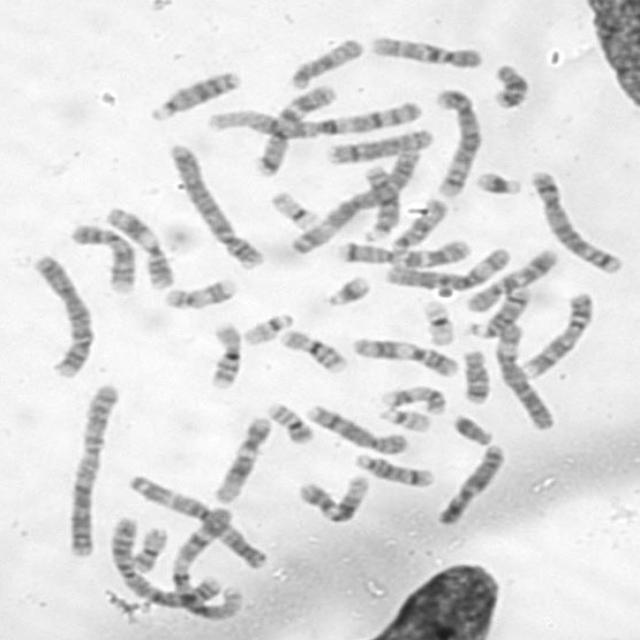A1: (202, 96, 424, 140), (165, 502, 242, 620)
A2: (104, 512, 234, 610), (62, 379, 122, 559)
A3: (287, 139, 424, 255), (126, 474, 271, 570)
B4: (164, 141, 265, 271), (26, 251, 97, 380)
B5: (528, 167, 625, 275), (430, 84, 484, 198)
C10: (462, 245, 560, 313), (366, 33, 486, 70)
C11: (101, 204, 178, 290), (347, 333, 460, 378)
C12: (210, 411, 273, 505), (294, 470, 370, 524)
C6: (490, 319, 557, 431), (379, 244, 514, 292)
C7: (250, 79, 339, 177), (336, 236, 472, 269)
C8: (302, 401, 409, 456), (323, 124, 435, 166)
C9: (518, 289, 595, 379), (66, 219, 140, 295)
D13: (146, 65, 244, 122), (359, 161, 400, 240)
D14: (348, 449, 437, 488), (466, 286, 530, 340)
D15: (286, 36, 364, 90), (385, 195, 450, 252)
E16: (276, 326, 350, 375), (204, 316, 245, 391)
E17: (159, 274, 238, 312), (378, 382, 448, 416)
E18: (488, 57, 533, 112), (458, 346, 492, 404)
F19: (268, 188, 324, 232), (417, 294, 458, 347)
F20: (263, 397, 317, 446), (128, 524, 170, 573)
G21: (320, 272, 372, 308), (472, 168, 524, 196)
G22: (240, 308, 297, 348), (377, 406, 431, 433)
X: (434, 442, 506, 527)
Y: (450, 412, 494, 447)
